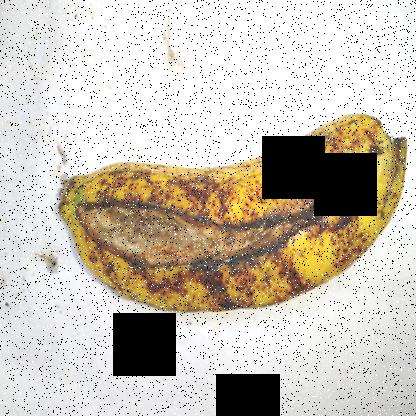rotten: (77, 154, 342, 293)
